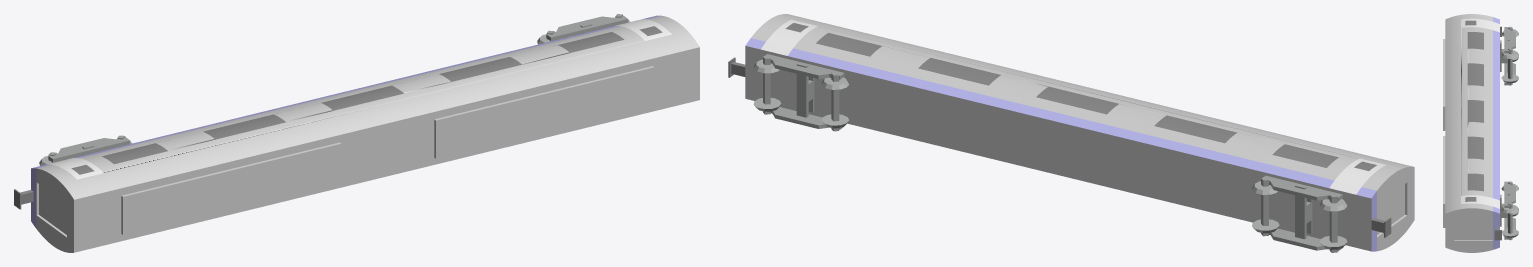
The model's file is passenger_car_2.dae.
The picture shows the model from 3 angles, left to right: view 1: azimuth 30°, elevation 25°; view 2: azimuth 150°, elevation 25°; view 3: azimuth 270°, elevation 25°; orthographic projection. The views are drawn at different scales.
Visible parts, largest first — view 1: instance_0_011, instance_0_012, instance_0_019, instance_0_046, instance_0_017, instance_0_001, instance_0_055, instance_0_050, instance_0_049, instance_0_052, instance_0_045, instance_0_031 (+1 smaller); view 2: instance_0_032, instance_0_011, instance_0_046, instance_0_017, instance_0_001, instance_0_049, instance_0_055, instance_0_050, instance_0_044, instance_0_031, instance_0_004, instance_0_052 (+3 smaller); view 3: instance_0_011, instance_0_046, instance_0_017, instance_0_001, instance_0_055, instance_0_050, instance_0_049, instance_0_031, instance_0_044, instance_0_045, instance_0_052, instance_0_012 (+11 smaller).
Part boxes in pixels (left/top/right/bottom): instance_0_011: left=36, top=16, right=699, bottom=252; instance_0_012: left=121, top=142, right=341, bottom=234; instance_0_019: left=434, top=66, right=654, bottom=158; instance_0_046: left=74, top=26, right=619, bottom=157; instance_0_017: left=48, top=135, right=130, bottom=162; instance_0_001: left=546, top=14, right=628, bottom=41; instance_0_055: left=203, top=114, right=285, bottom=139; instance_0_050: left=439, top=57, right=521, bottom=81; instance_0_049: left=321, top=85, right=403, bottom=110; instance_0_052: left=101, top=143, right=167, bottom=164; instance_0_045: left=558, top=32, right=624, bottom=52; instance_0_031: left=615, top=19, right=671, bottom=40; instance_0_032: left=745, top=46, right=1371, bottom=251; instance_0_011: left=751, top=14, right=1414, bottom=251; instance_0_046: left=788, top=48, right=1334, bottom=187; instance_0_017: left=1261, top=175, right=1342, bottom=252; instance_0_001: left=763, top=54, right=844, bottom=131; instance_0_049: left=1036, top=86, right=1118, bottom=114; instance_0_055: left=1154, top=115, right=1236, bottom=143; instance_0_050: left=918, top=58, right=1000, bottom=85; instance_0_044: left=1329, top=158, right=1386, bottom=194; instance_0_031: left=761, top=20, right=817, bottom=55; instance_0_004: left=796, top=63, right=814, bottom=117; instance_0_052: left=1272, top=144, right=1338, bottom=167; instance_0_011: left=1445, top=14, right=1492, bottom=252; instance_0_046: left=1493, top=30, right=1499, bottom=200; instance_0_017: left=1504, top=26, right=1515, bottom=85; instance_0_001: left=1504, top=181, right=1515, bottom=240; instance_0_055: left=1467, top=63, right=1483, bottom=86; instance_0_050: left=1467, top=136, right=1483, bottom=159; instance_0_049: left=1467, top=100, right=1483, bottom=122; instance_0_031: left=1461, top=195, right=1499, bottom=208; instance_0_044: left=1461, top=18, right=1499, bottom=32; instance_0_045: left=1467, top=173, right=1483, bottom=191; instance_0_052: left=1467, top=32, right=1483, bottom=49; instance_0_012: left=1443, top=39, right=1445, bottom=130.
Size of the model in its own units: 10951 by 1120 by 1719.
